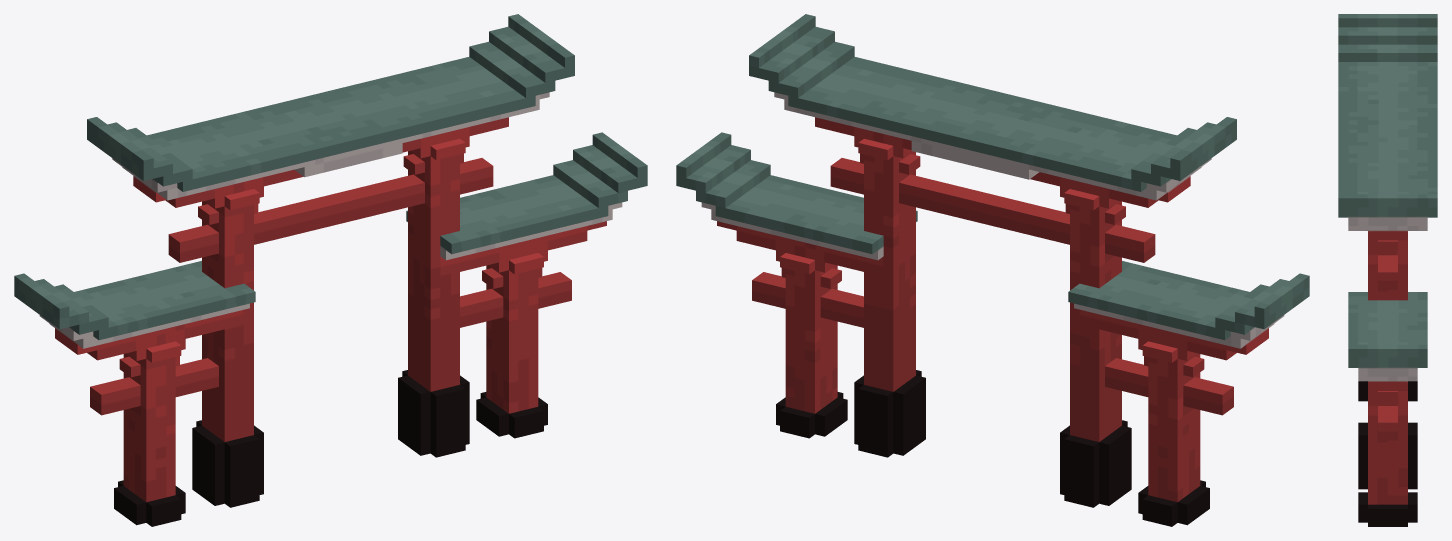
The model's file is Torii Miwa Red.fbx.
3 views of the same model, side by side, from view 1: azimuth 30°, elevation 25°; view 2: azimuth 150°, elevation 25°; view 3: azimuth 270°, elevation 25° (orthographic). The views are drawn at different scales.
Parts seen in each view (by area): view 1: Miwa Torii Red Cleaned; view 2: Miwa Torii Red Cleaned; view 3: Miwa Torii Red Cleaned.
Part boxes in pixels (left/top/right/bottom): Miwa Torii Red Cleaned: left=14, top=14, right=647, bottom=526; Miwa Torii Red Cleaned: left=676, top=14, right=1309, bottom=526; Miwa Torii Red Cleaned: left=1338, top=14, right=1437, bottom=526.
Bounding box in the file's own units: 600 × 370 × 100.
1 material, 1 textured.
